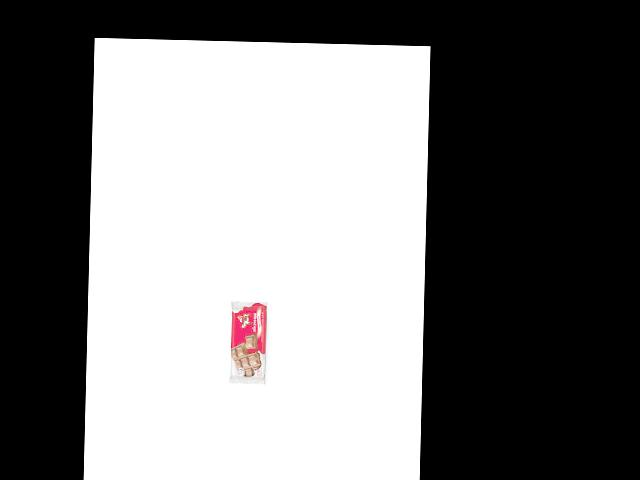chocolate: (228, 300, 267, 387)
